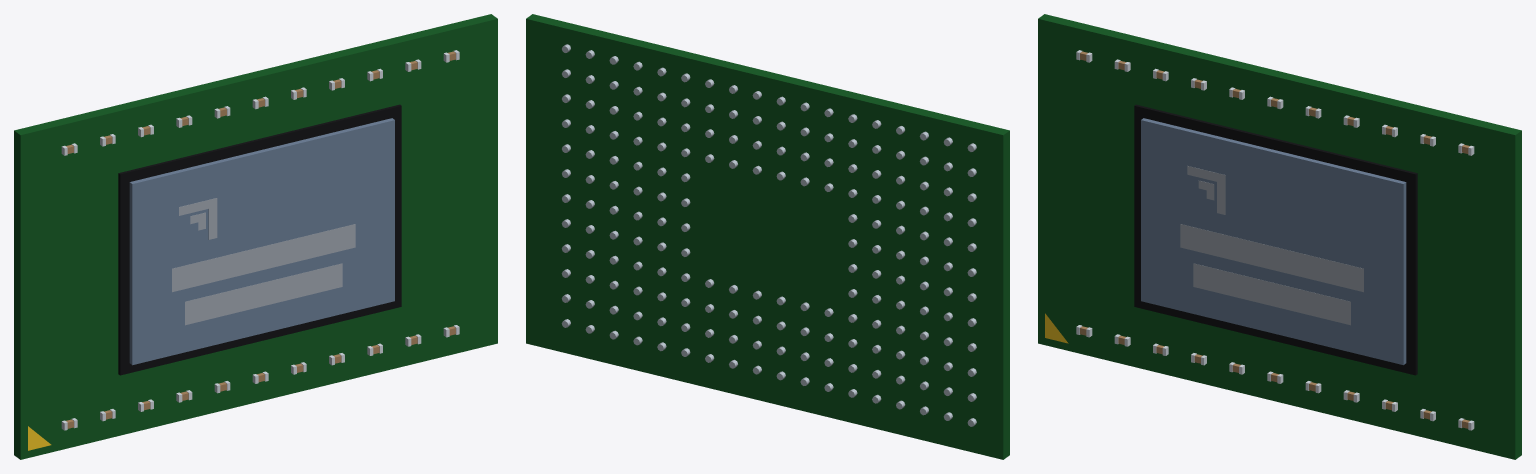
File: CPU_AMD_RYZEN9_HX_LAPTOP_BGA.obj
3 renders of one model, left to right at view 1: azimuth 30°, elevation 25°; view 2: azimuth 150°, elevation 25°; view 3: azimuth 330°, elevation 25°, orthographic.
Size of the model in its own units: 40 by 26 by 2.02.
